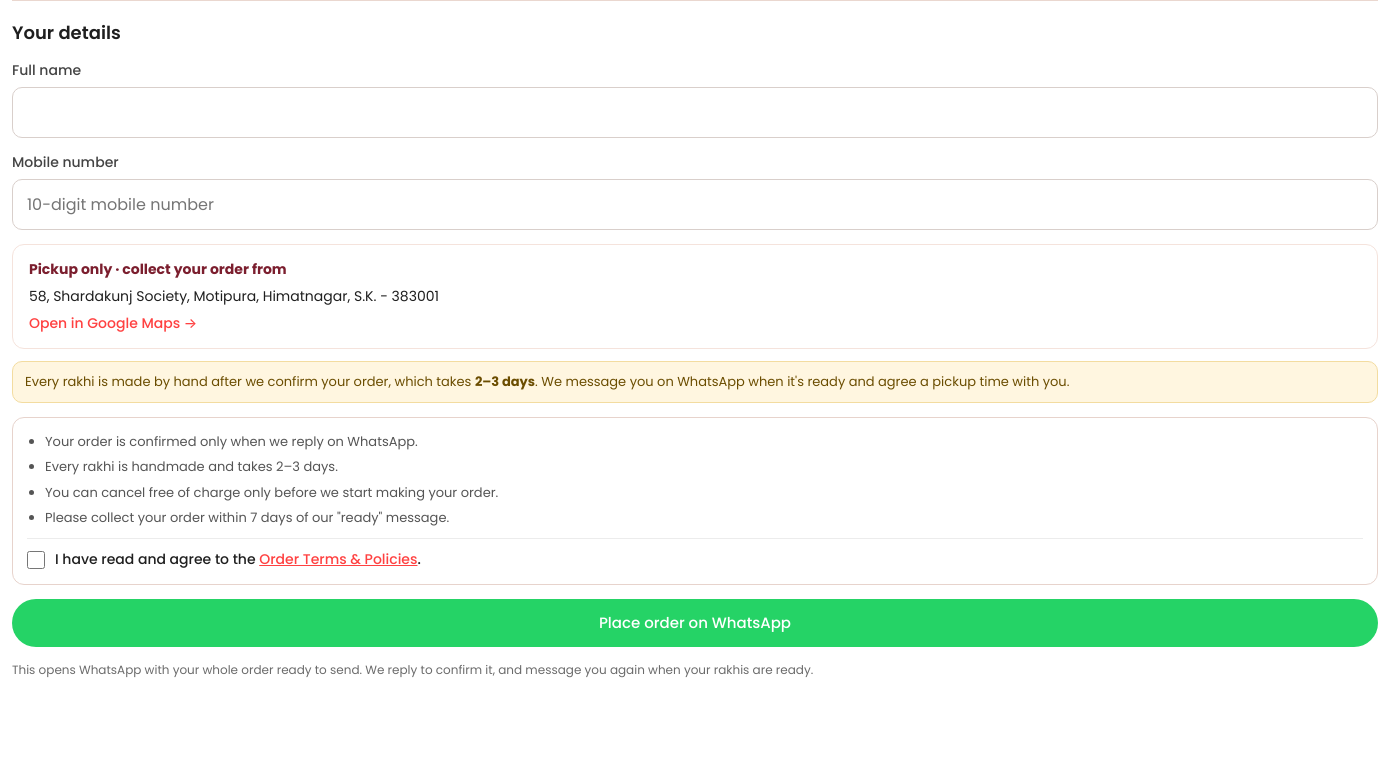
Test: checkout is blocked until the order terms are accepted
Type "Asha" into the field labelled "Full name" at (695, 112), box [12, 87, 1378, 138]
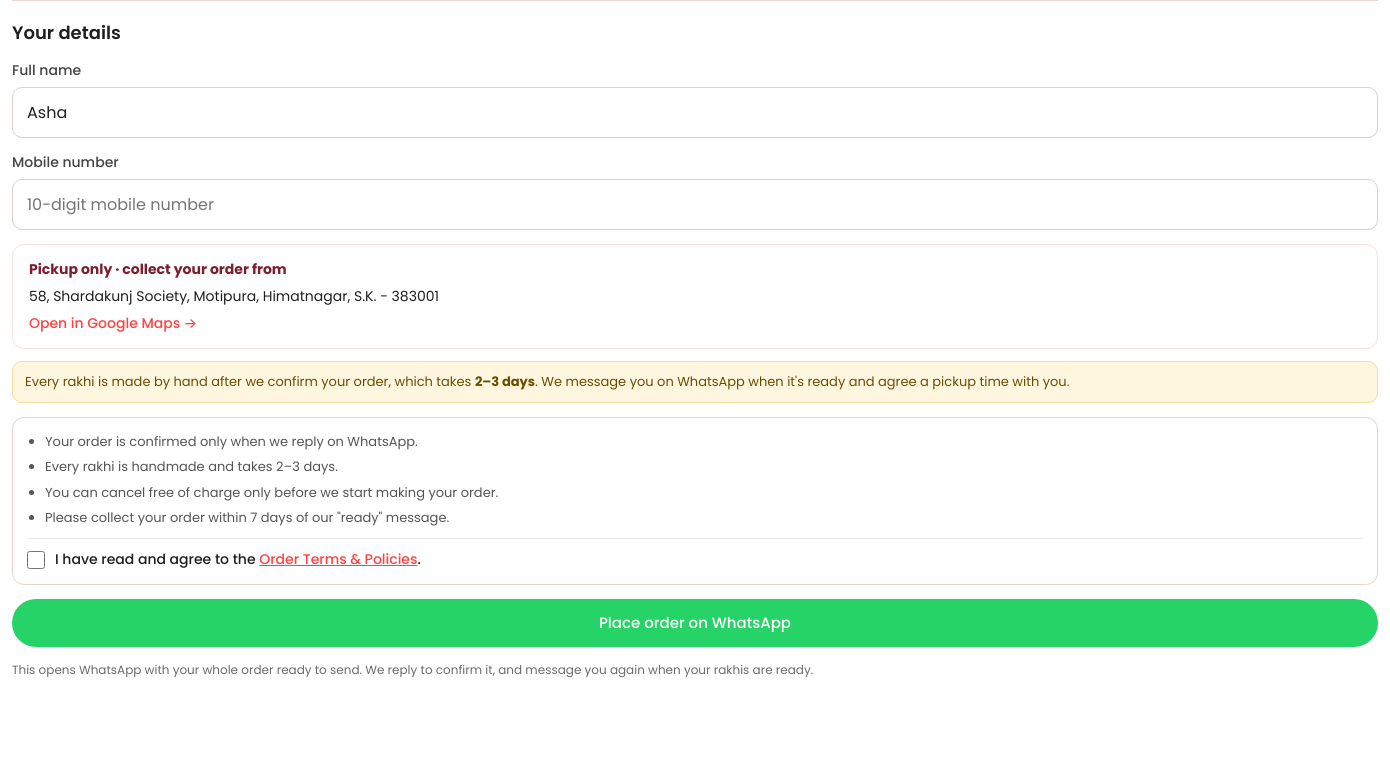
Type "98765 43210" into the field labelled "Mobile number" at (695, 204), box [12, 179, 1378, 230]
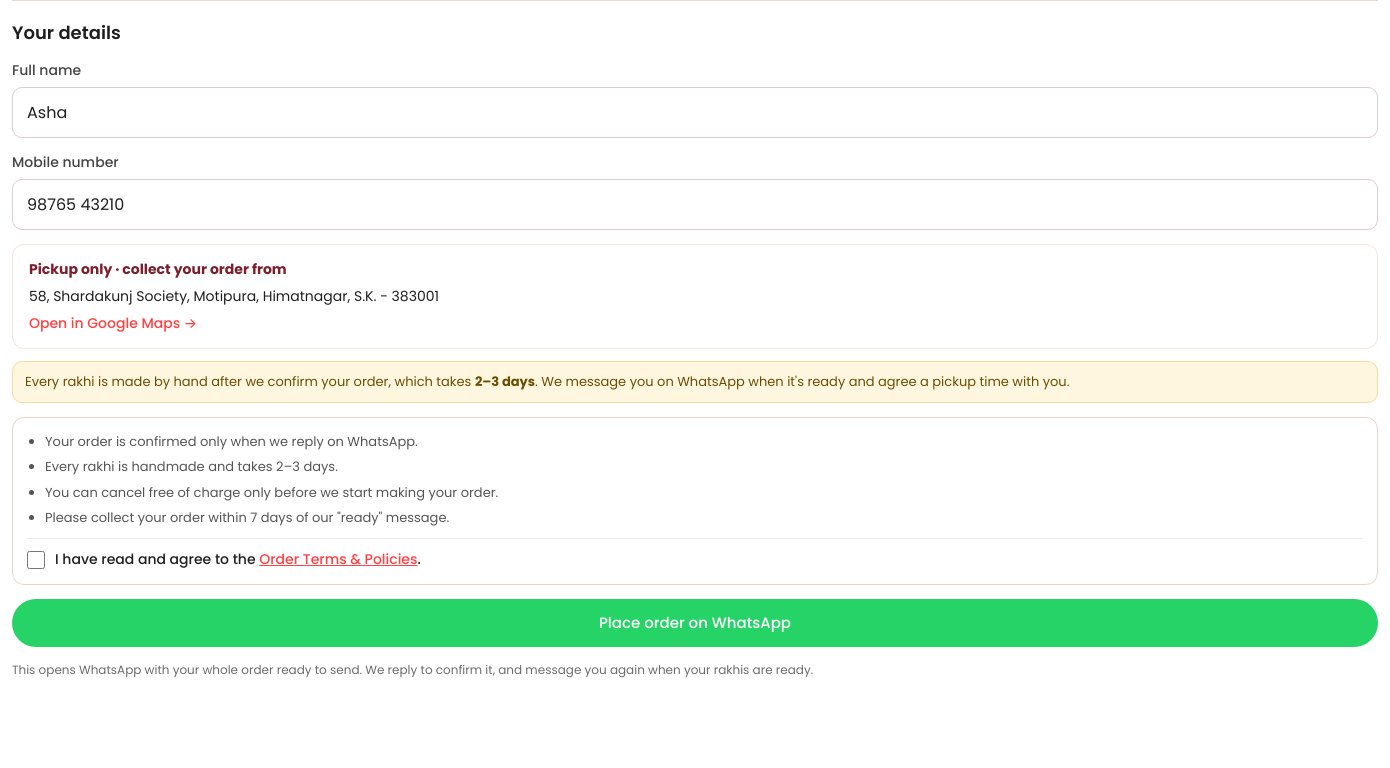
Click the button "Place order on WhatsApp" at (695, 622), box [12, 598, 1378, 646]
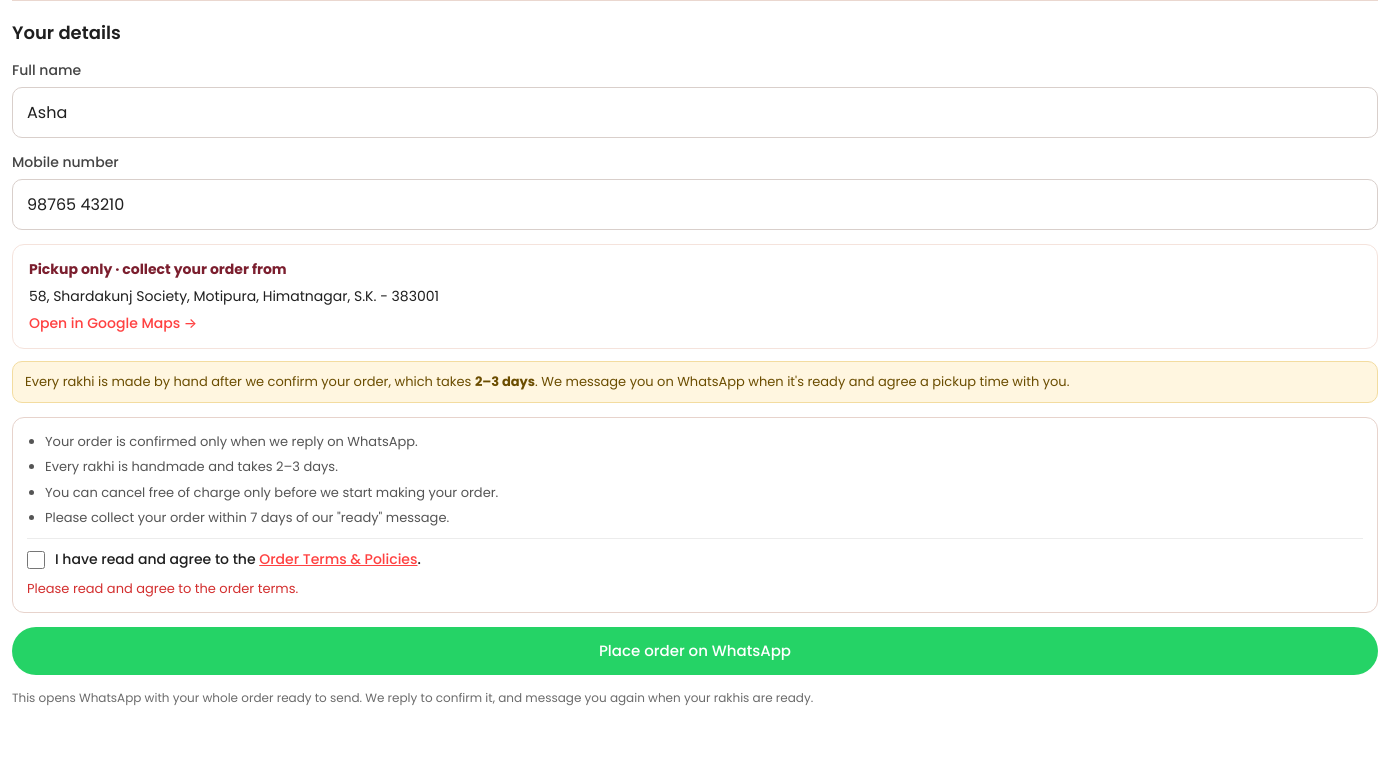
Check: the text "Please read and agree to the order terms." is shown, box [27, 578, 298, 598]
